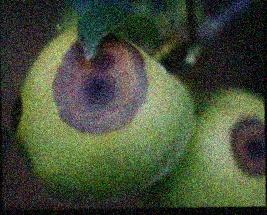rotten apple: (10, 16, 194, 201), (159, 82, 263, 207)
